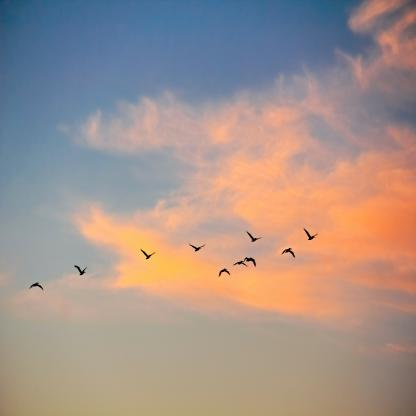bird: (246, 230, 262, 242), (140, 248, 156, 260), (303, 228, 318, 240), (281, 248, 296, 258), (189, 243, 205, 252), (243, 257, 256, 267), (219, 268, 231, 278), (74, 266, 87, 275), (29, 283, 44, 290), (233, 261, 248, 267)
